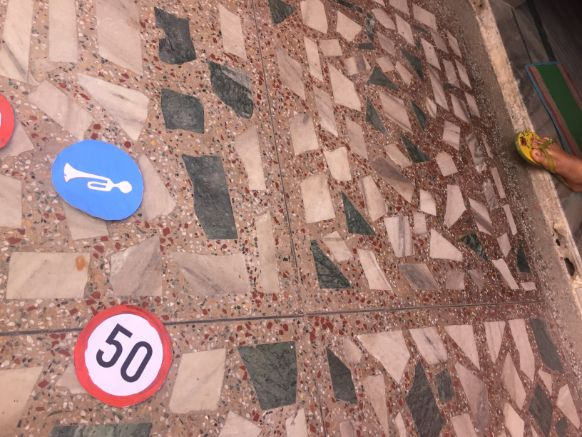blow-horn: (50, 140, 143, 219)
speed-50: (75, 306, 173, 406)
